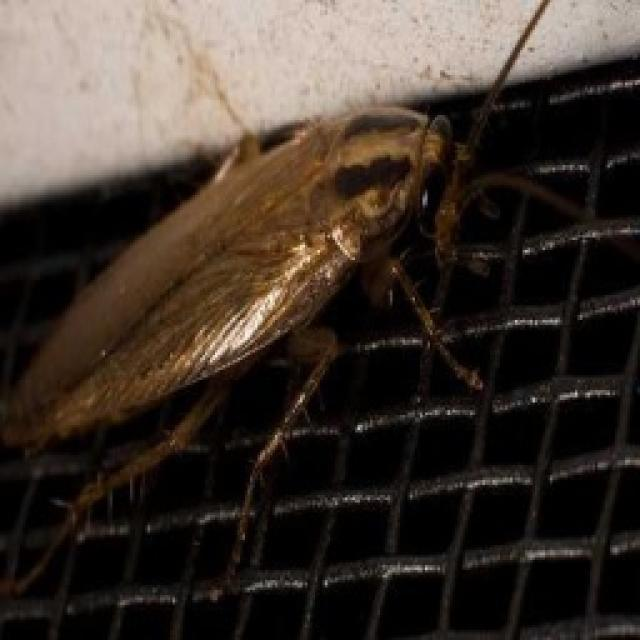cockroach: (4, 102, 450, 455)
